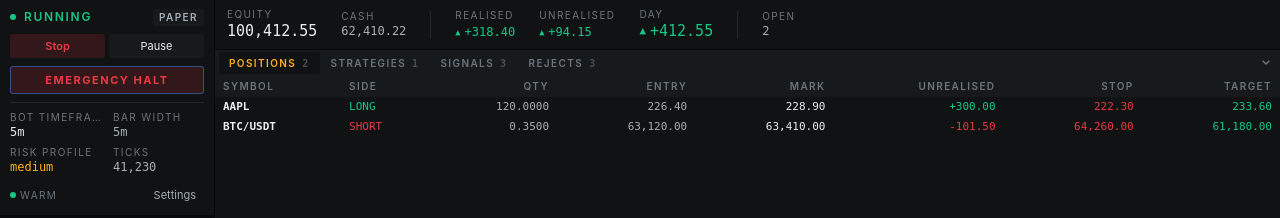
BotDock controls › shows positions, strategy regimes and the reject log
This screenshot has width=1280, height=218.
Expected: the text "AAPL" is shown, [215,97,341,117]
Expected: the text "LONG" is shown, [349,100,376,113]
What coordinates should you click on to do the following:
click the button "Strategies 1"
I would click on:
 (375, 63)
Its box is [321,52,430,74].
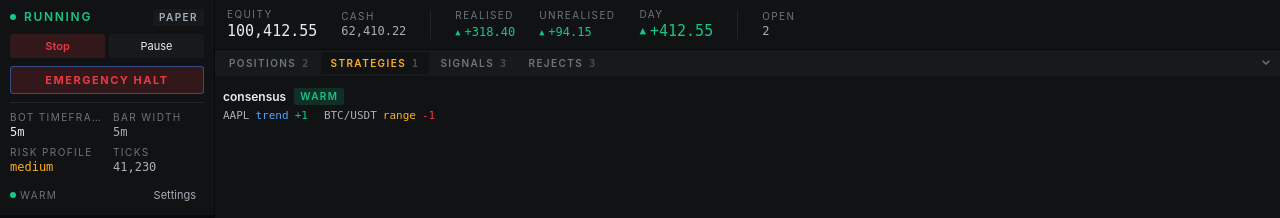
Now the text "trend" is shown, box [256,109,289,123]
Now the text "+1" is shown, box [295,109,308,123]
What coordinates should you click on to do the following:
click the button "Rejects 3"
I would click on:
 (563, 63)
Its box is [518,52,607,74].
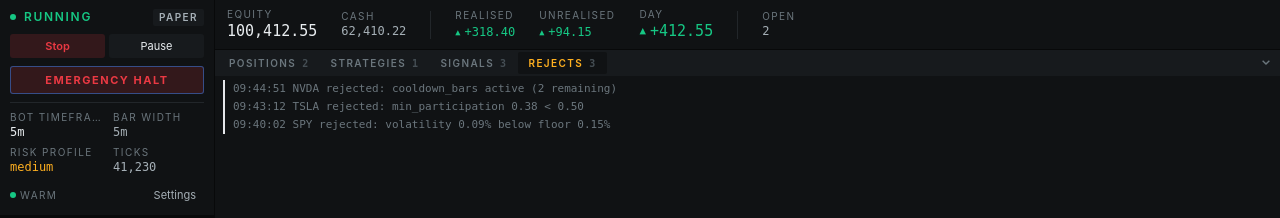
Now the text "09:43:12 TSLA rejected: min_participation 0.38 < 0.50" is shown, box [223,98,1272,116]
